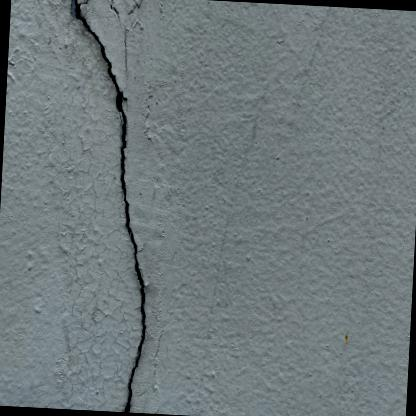crack: (69, 0, 147, 412)
